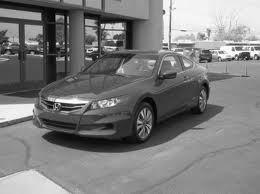car: (34, 50, 212, 145)
